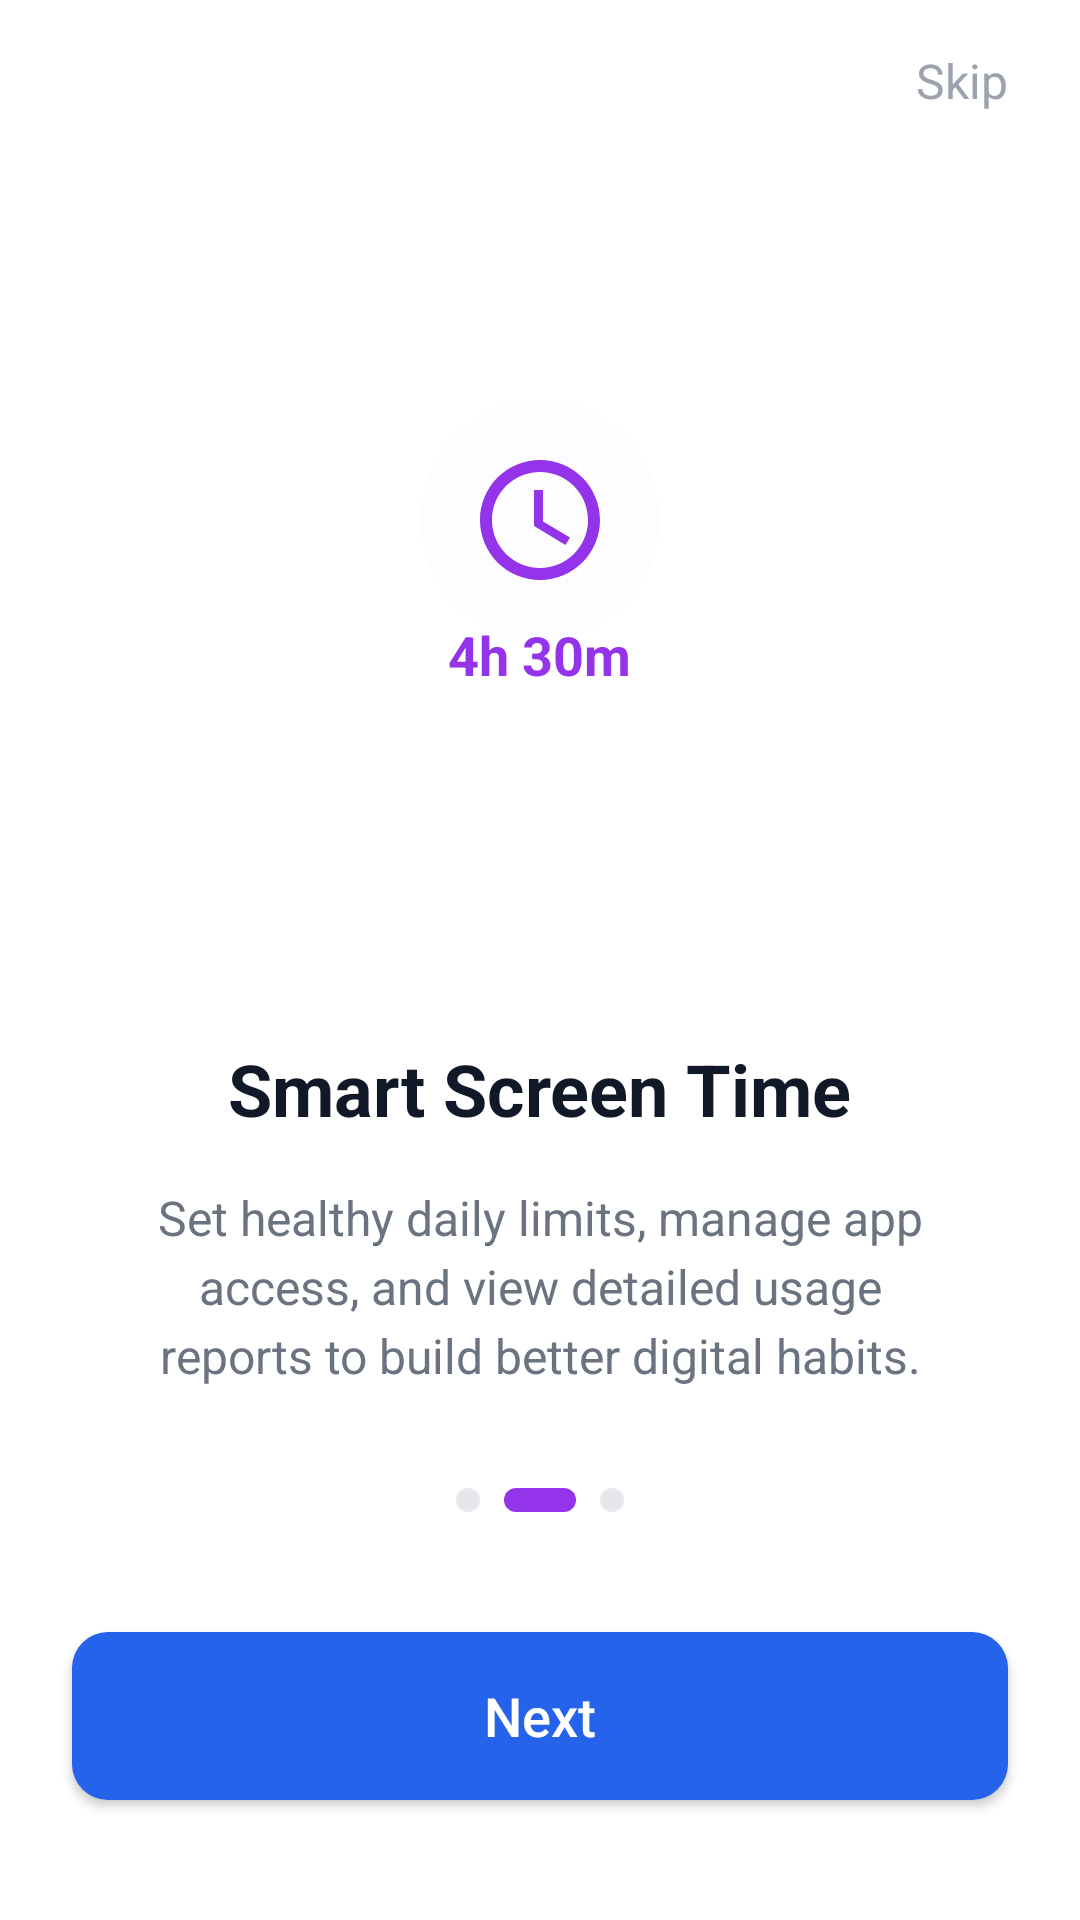

Where to tap for icons on this 1080w x 1920h app screen, as (x=x, y=y):
clock: (x=540, y=520)
